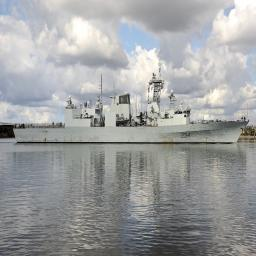Fragata: (12, 53, 252, 147)
